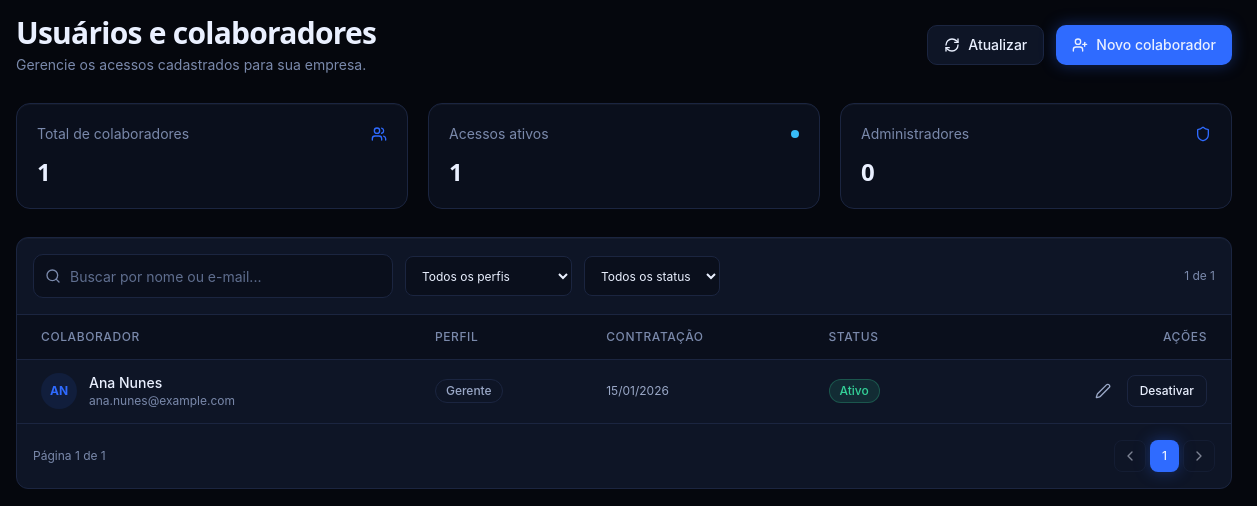
Scenario: company users and workspace integrations › renders collaborators from the API and sends an active-status update
Check: the text "Ana Nunes" is shown, box top-left (89, 374), bottom-right (162, 391)
Click the button "Desativar": x=1167, y=391 top-left (1127, 375), bottom-right (1207, 407)
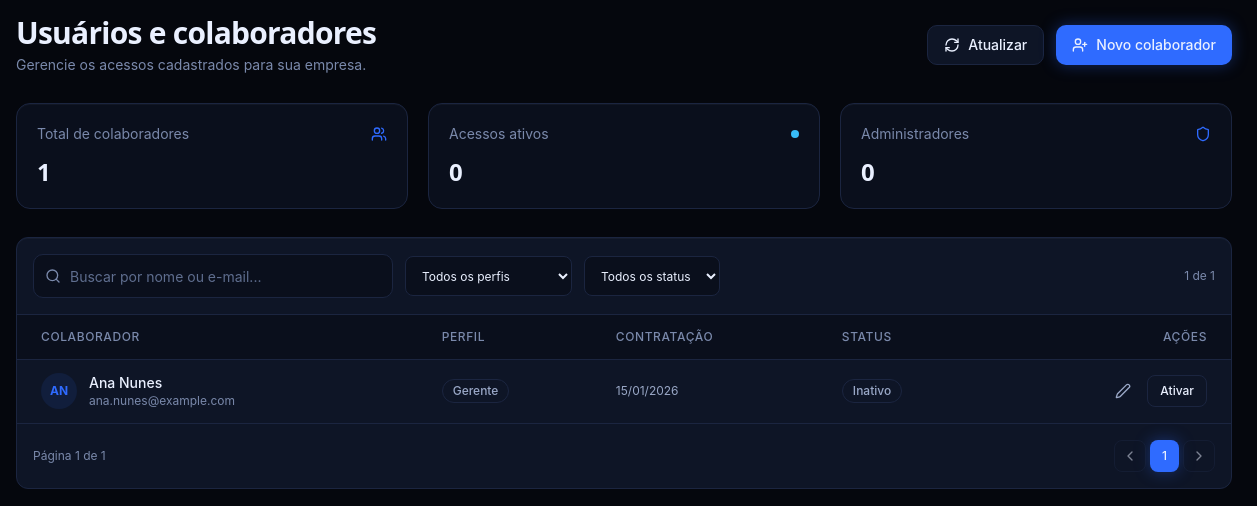
Check: the text "Inativo" is shown, box top-left (842, 379), bottom-right (902, 403)
